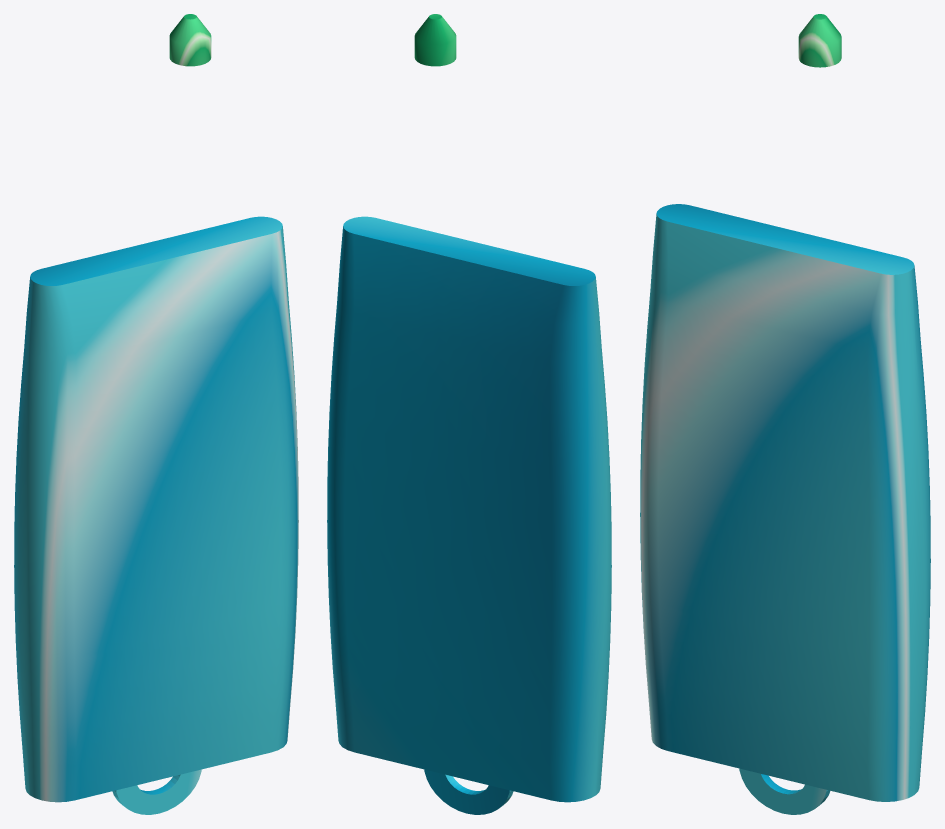
The model's file is aqua-care-iv-clear.obj.
The picture shows the model from 3 angles, left to right: view 1: azimuth 30°, elevation 25°; view 2: azimuth 150°, elevation 25°; view 3: azimuth 330°, elevation 25°; orthographic projection. The views are drawn at different scales.
Size of the model in its own units: 30.33 by 85.17 by 8.33.
Materials: 1 (1 with a texture image).
